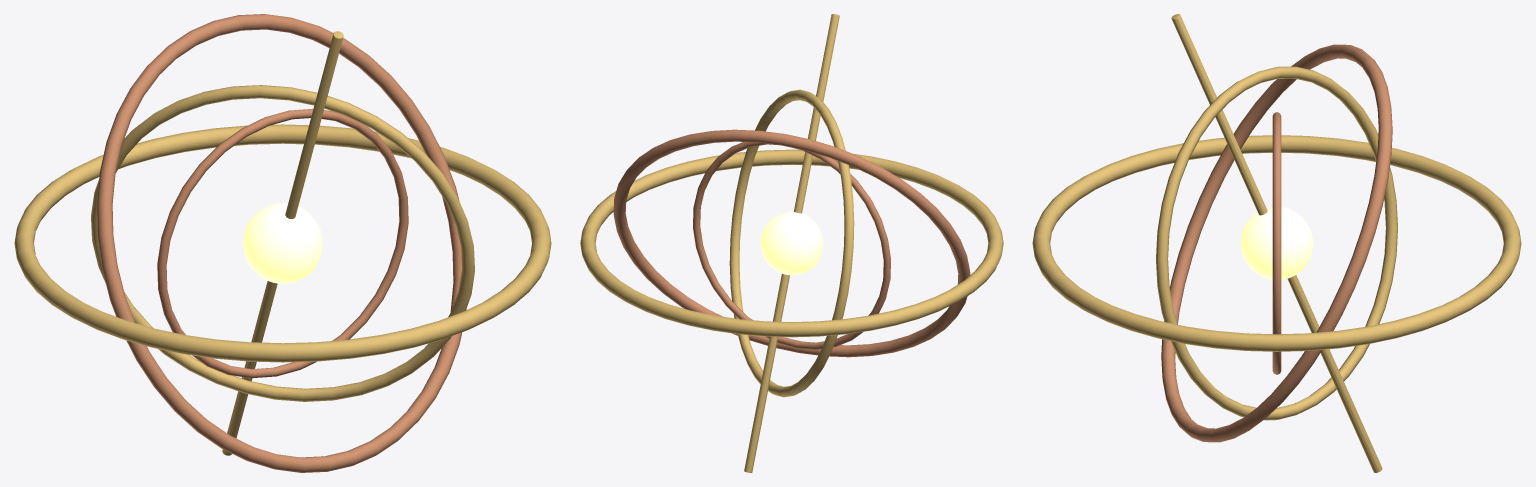
Rendered from brass_astrolabe_sphere.glb.
3 renders of one model, left to right at view 1: azimuth 30°, elevation 25°; view 2: azimuth 150°, elevation 25°; view 3: azimuth 270°, elevation 25°, orthographic. The views are drawn at different scales.
Parts seen in each view (by area): view 1: AxisRod, RingB, SunCore; view 2: AxisRod, RingB, SunCore; view 3: AxisRod, RingB, SunCore.
Part boxes in pixels (<box>): AxisRod: <box>14,31,551,455</box>; RingB: <box>97,14,466,472</box>; SunCore: <box>243,203,322,283</box>; AxisRod: <box>580,14,1003,472</box>; RingB: <box>613,129,970,357</box>; SunCore: <box>760,211,823,275</box>; AxisRod: <box>1032,14,1521,472</box>; RingB: <box>1161,44,1392,442</box>; SunCore: <box>1240,207,1313,279</box>.
Bounding box in the file's own units: 17.64 × 18.2 × 17.64.
